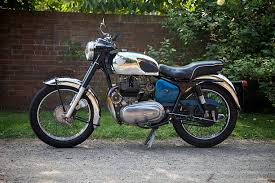bike: (18, 17, 253, 166)
